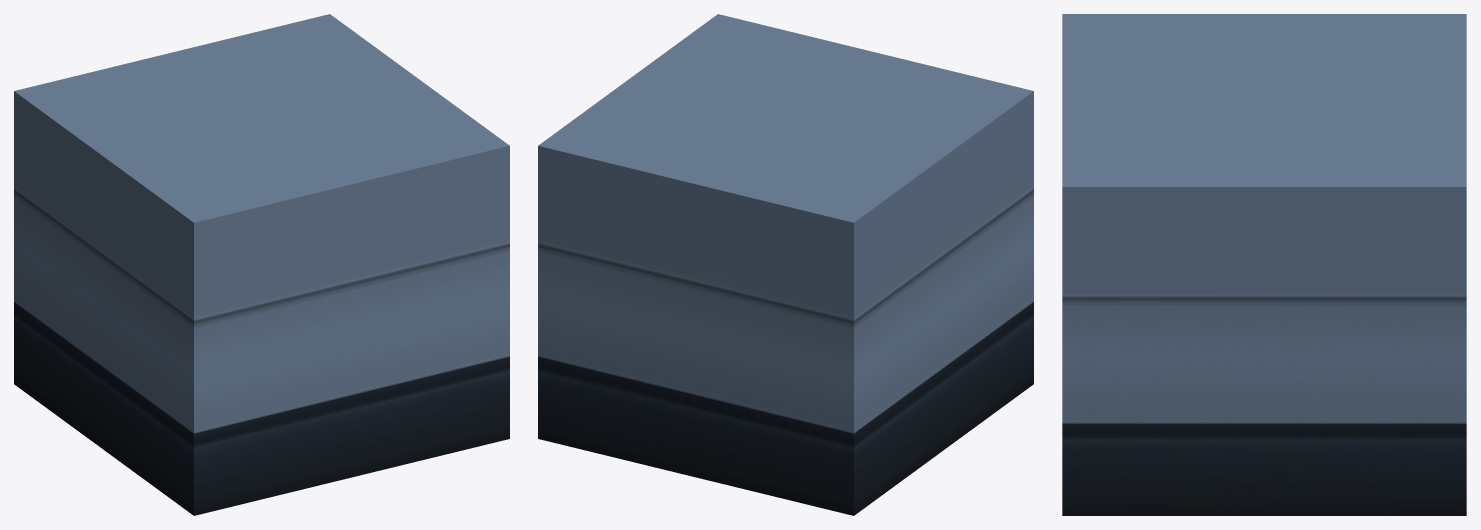
The picture shows the model from 3 angles, left to right: view 1: azimuth 30°, elevation 25°; view 2: azimuth 150°, elevation 25°; view 3: azimuth 270°, elevation 25°; orthographic projection. The views are drawn at different scales.
Parts seen in each view (by area): view 1: ts_box005; view 2: ts_box005; view 3: ts_box005.
Boxes of the visible parts, x1,y1,x2,y2 form: ts_box005: [14, 14, 509, 515]; ts_box005: [538, 14, 1033, 515]; ts_box005: [1062, 14, 1466, 515].
Bounding box in the file's own units: 0.5049 × 0.4477 × 0.4984.
